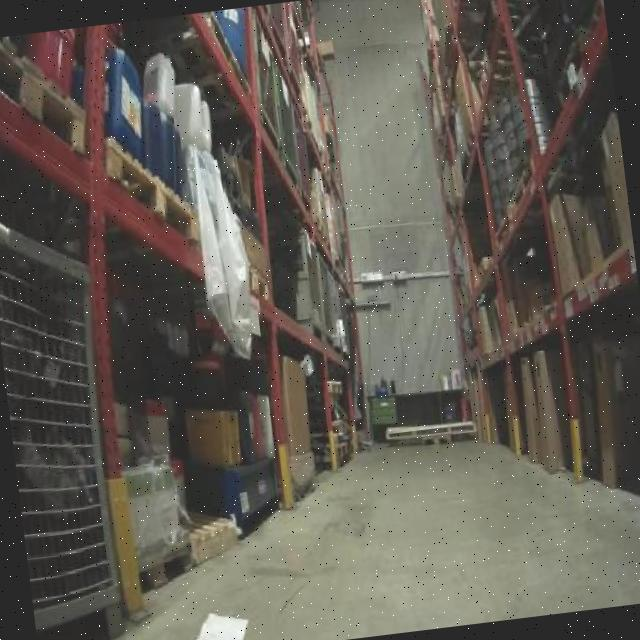pallet: (94, 125, 208, 264), (0, 37, 89, 172)
